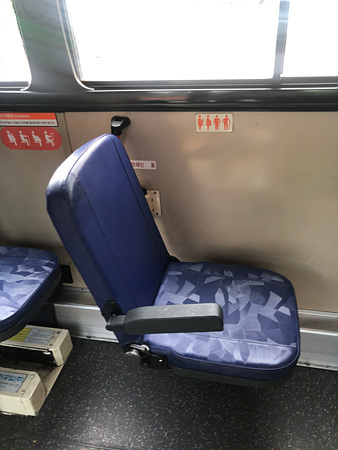seat: (47, 135, 299, 378)
